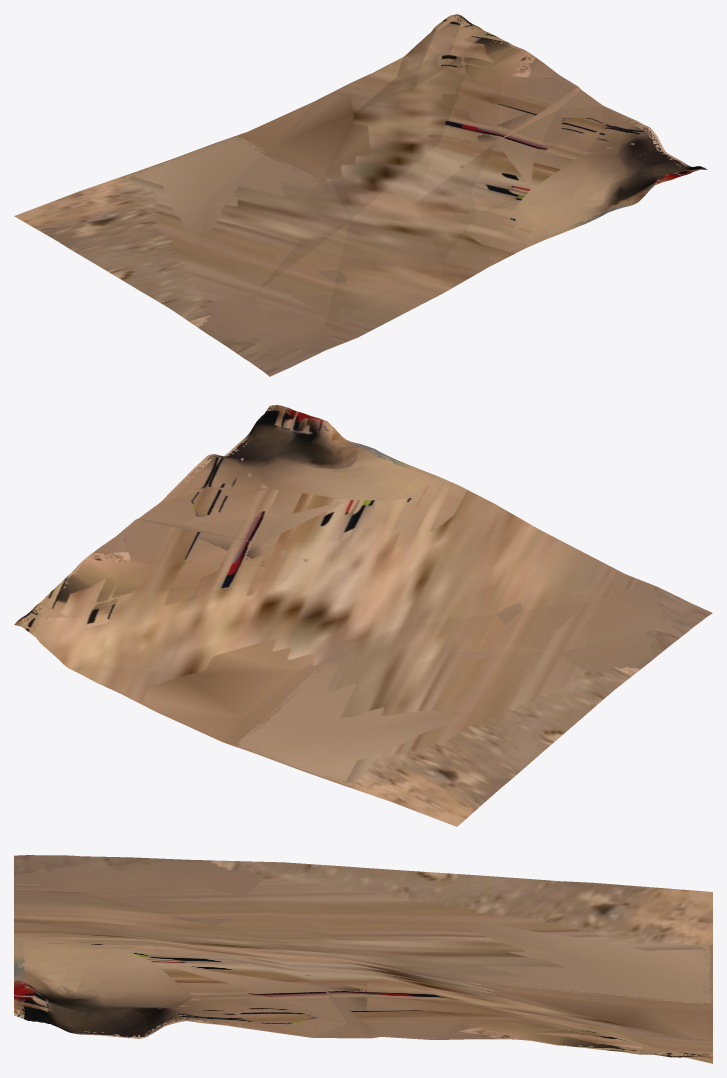
The picture shows the model from 3 angles, top to bottom: view 1: azimuth 30°, elevation 25°; view 2: azimuth 150°, elevation 25°; view 3: azimuth 270°, elevation 25°; orthographic projection. The views are drawn at different scales.
Bounding box in the file's own units: 2.09 × 0.58 × 2.09.
2 materials, 2 textured.
